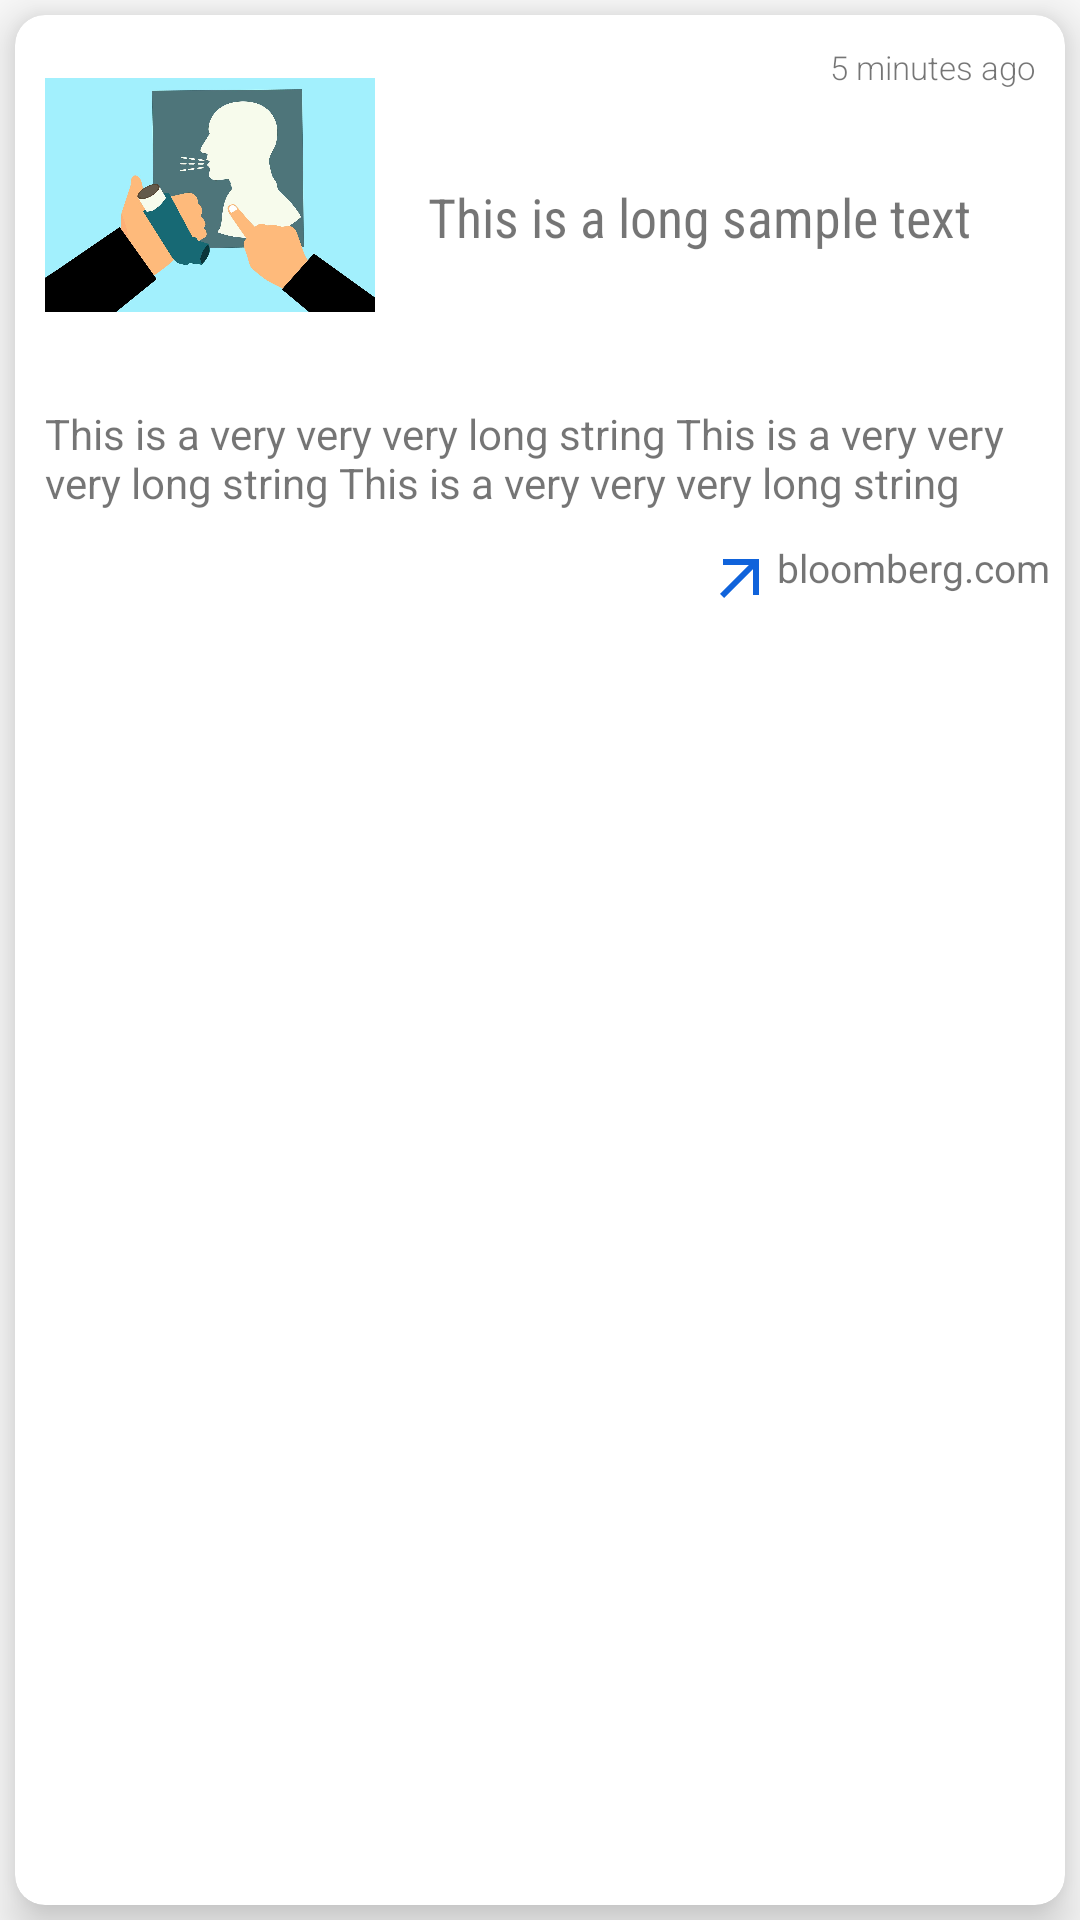

Where to tap for icons on this 1080×1920 app screen, as [x,y]:
cough: [210,195]
